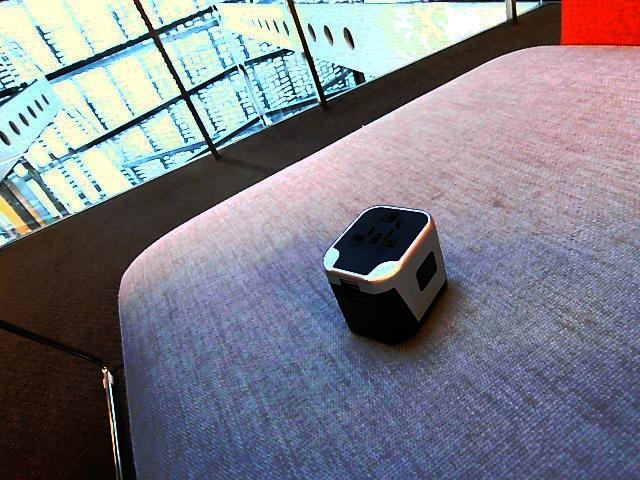adapter: (322, 204, 448, 344)
